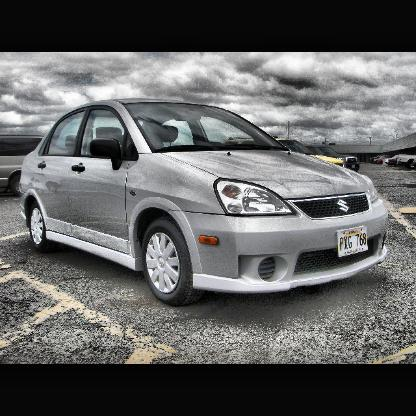Suzuki Aerio Sedan 2007: (16, 97, 394, 308)
